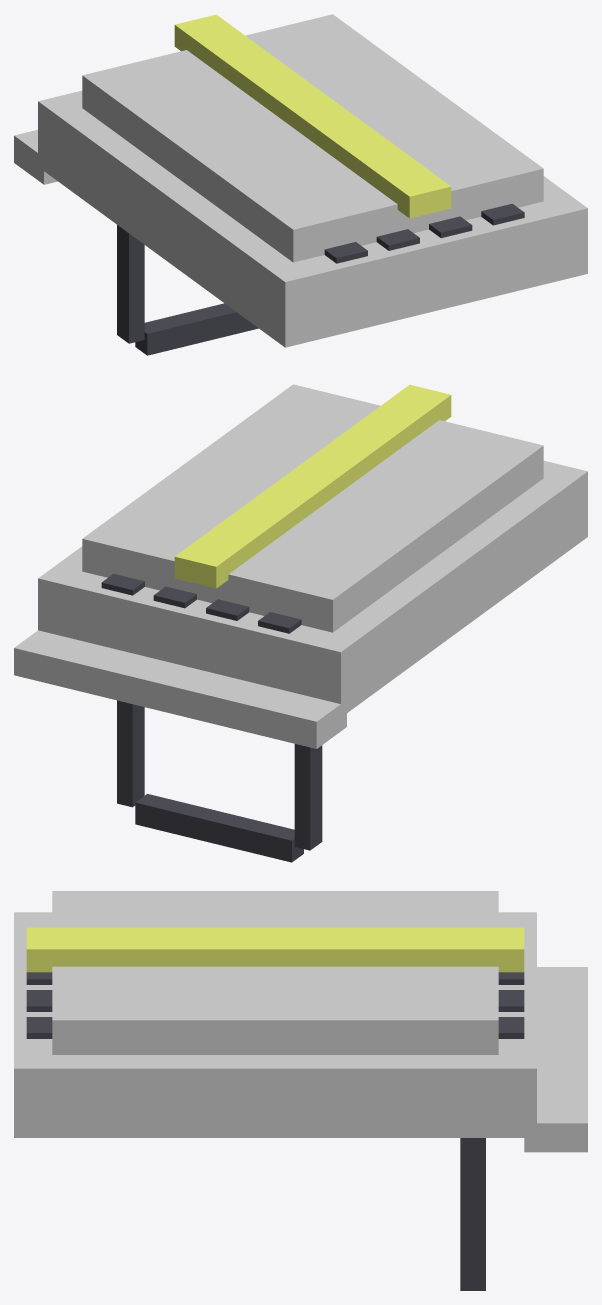
The model's file is capacete_ciclista.glb.
The picture shows the model from 3 angles, top to bottom: view 1: azimuth 30°, elevation 25°; view 2: azimuth 150°, elevation 25°; view 3: azimuth 270°, elevation 25°; orthographic projection. The views are drawn at different scales.
Parts seen in each view (by area): view 1: capacete_ciclista; view 2: capacete_ciclista; view 3: capacete_ciclista.
Part boxes in pixels (<box>): capacete_ciclista: <box>14,14,587,355</box>; capacete_ciclista: <box>14,384,587,862</box>; capacete_ciclista: <box>14,891,587,1290</box>.
Bounding box in the file's own units: 0.58 × 0.54 × 0.9.
